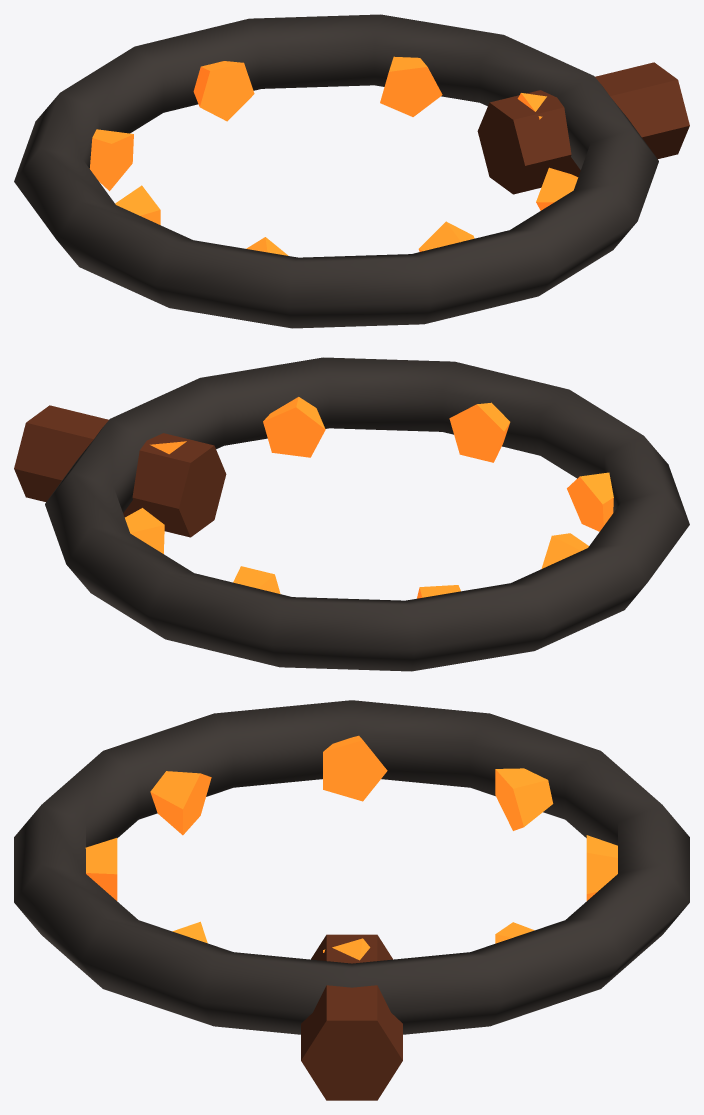
The model's file is burner_ring.glb.
3 renders of one model, top to bottom at view 1: azimuth 30°, elevation 25°; view 2: azimuth 150°, elevation 25°; view 3: azimuth 270°, elevation 25°, orthographic. The views are drawn at different scales.
Visible parts, largest first — view 1: part.burner_ring; view 2: part.burner_ring; view 3: part.burner_ring.
Boxes of the visible parts, x1=… form: part.burner_ring: x1=14, y1=14, x2=689, y2=328; part.burner_ring: x1=14, y1=357, x2=689, y2=671; part.burner_ring: x1=14, y1=700, x2=689, y2=1100.
Bounding box in the file's own units: 0.74 × 0.1014 × 0.6629.
